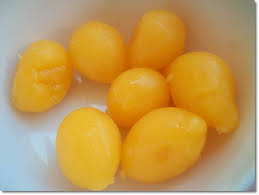tongyod: (165, 46, 243, 132), (123, 110, 208, 179), (55, 110, 122, 190), (15, 43, 69, 112), (111, 69, 171, 125), (71, 25, 133, 78), (132, 13, 186, 70)
